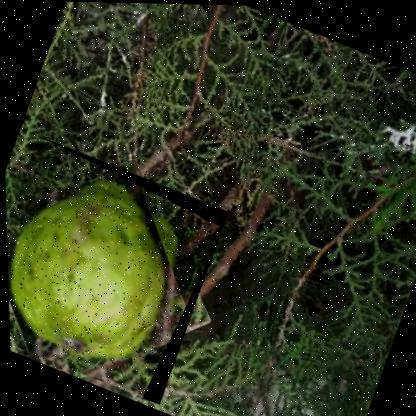guava: (3, 134, 232, 407)
